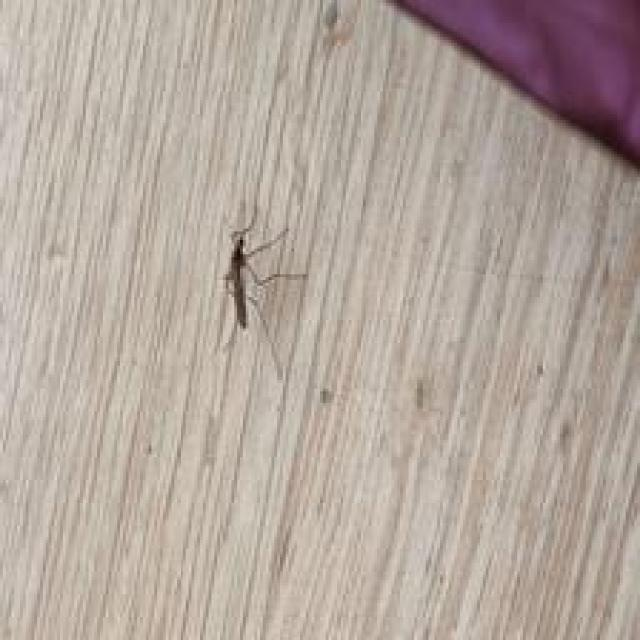Culex: (214, 213, 309, 378)
